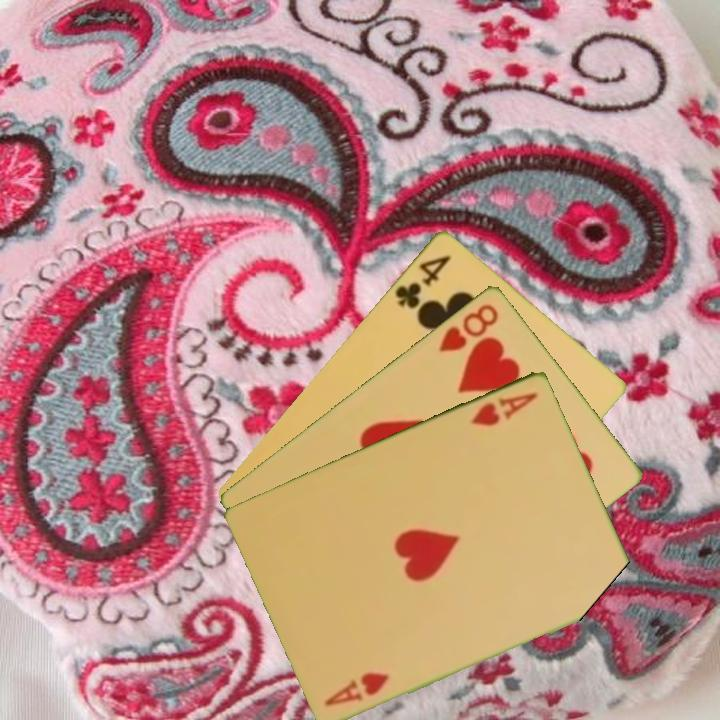4c: (391, 250, 454, 311)
8h: (435, 299, 502, 355)
Ah: (467, 388, 541, 429), (320, 668, 393, 709)
